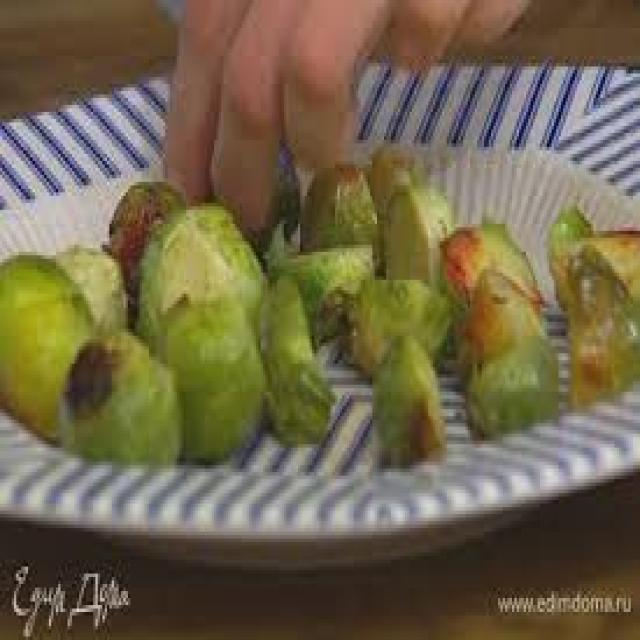choux de bruxelles: (311, 148, 640, 429), (11, 231, 179, 470), (161, 200, 289, 444)
